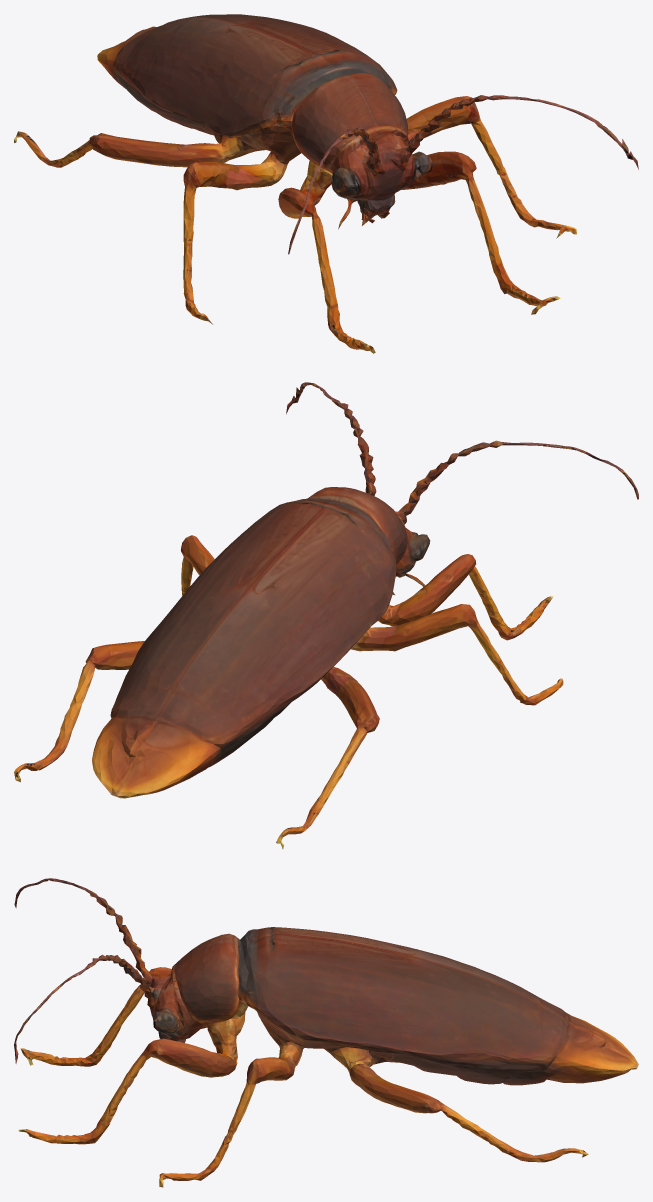
The model's file is Cockroach.fbx.
3 renders of one model, top to bottom at view 1: azimuth 30°, elevation 25°; view 2: azimuth 150°, elevation 25°; view 3: azimuth 270°, elevation 25°, orthographic. The views are drawn at different scales.
Parts seen in each view (by area): view 1: temp; view 2: temp; view 3: temp.
Part boxes in pixels (bbox=[...]): temp: bbox=[14, 14, 638, 353]; temp: bbox=[14, 382, 638, 848]; temp: bbox=[14, 878, 638, 1187].
Bounding box in the file's own units: 126 × 64.06 × 200.
Materials: 1 (1 with a texture image).
